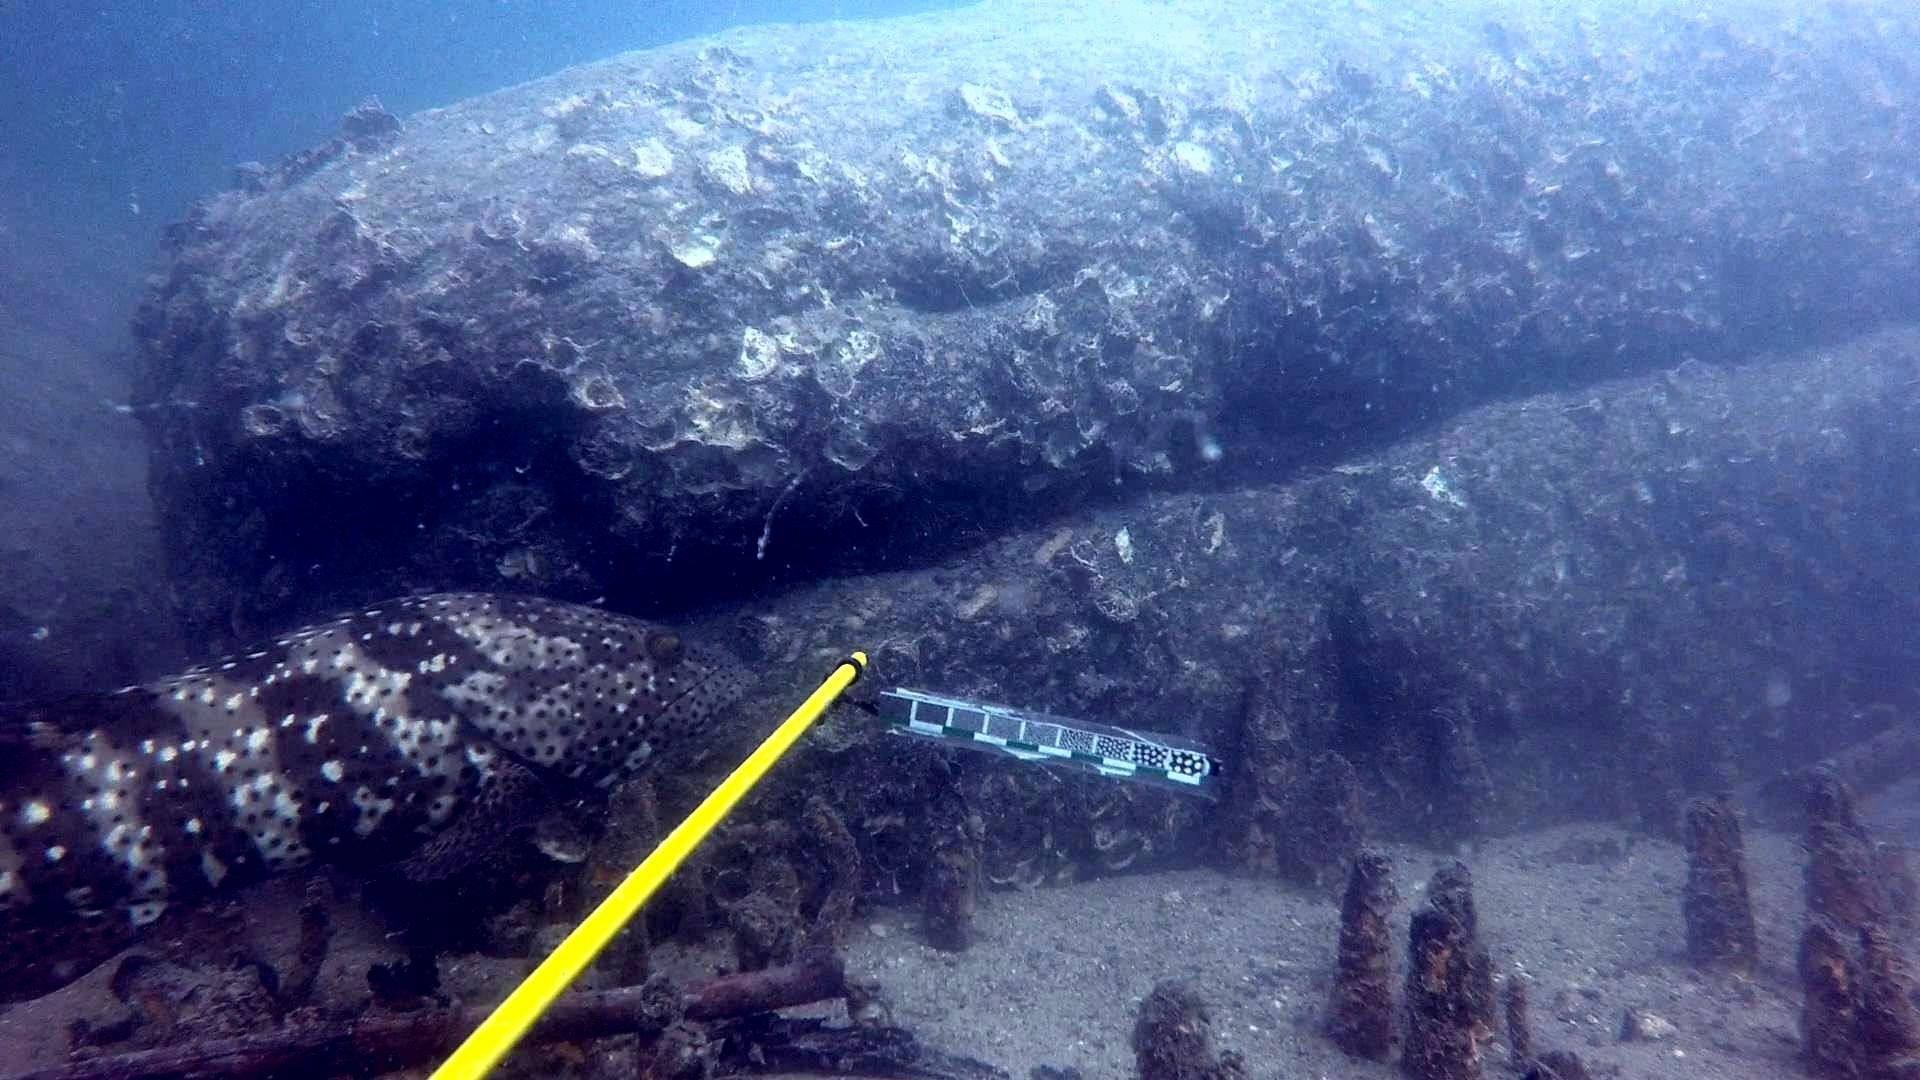epinephelus: (0, 580, 764, 1009)
